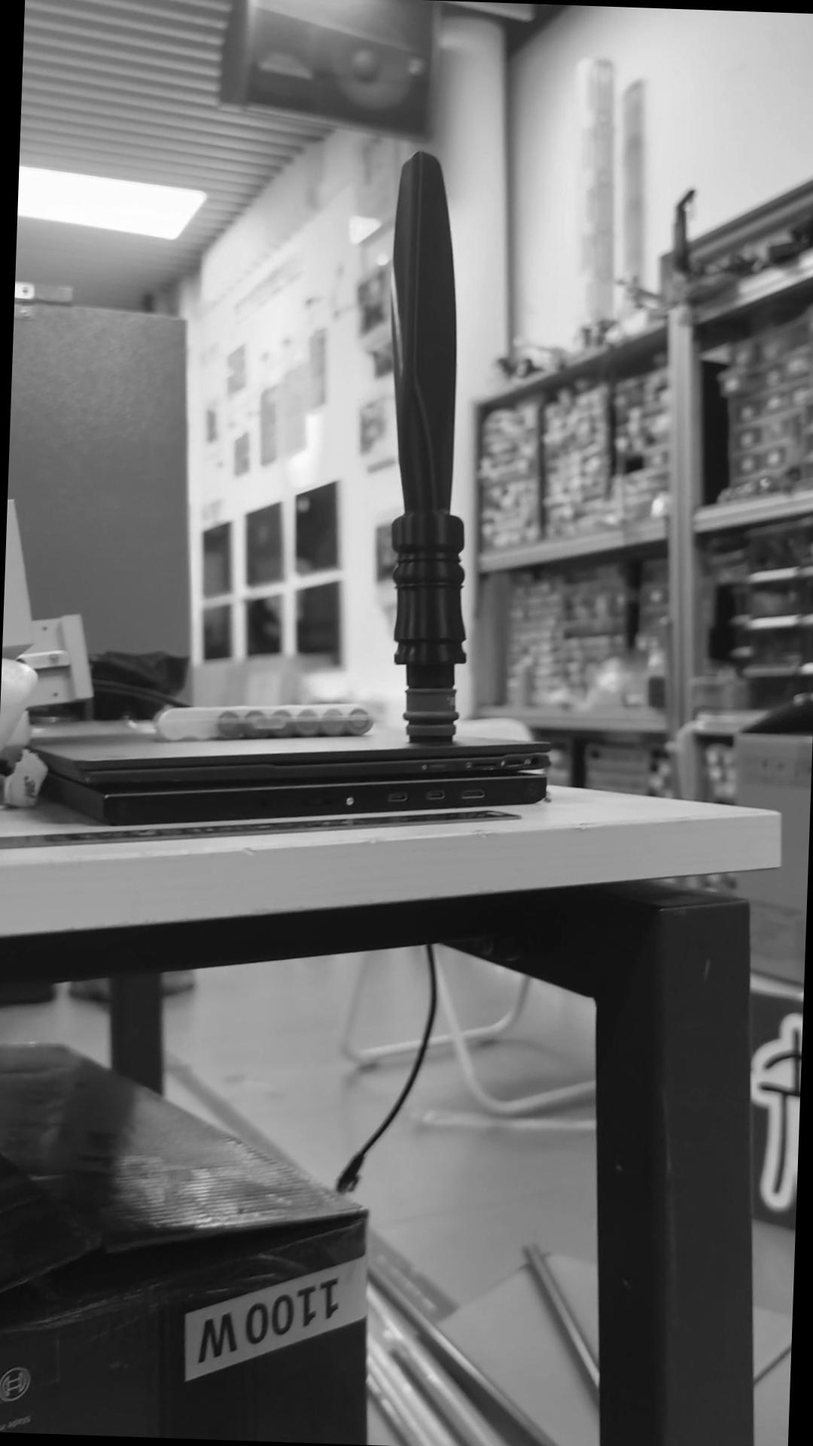base: (390, 678, 470, 754)
